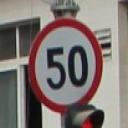speed_limit_50: (28, 21, 104, 113)
